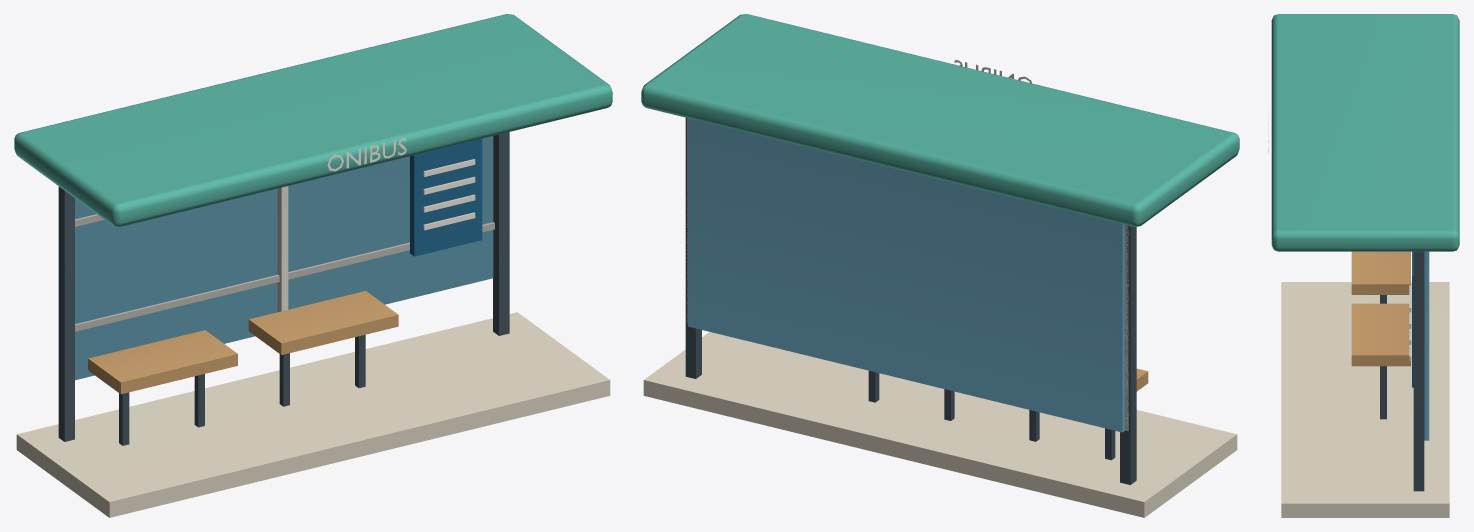
File: bus-shelter.glb
3 renders of one model, left to right at view 1: azimuth 30°, elevation 25°; view 2: azimuth 150°, elevation 25°; view 3: azimuth 270°, elevation 25°, orthographic. The views are drawn at different scales.
Parts seen in each view (by area): view 1: teal shelter roof, shelter foundation, rear glazing, shelter seat, shelter upright, glazing mullion, timetable panel; view 2: rear glazing, teal shelter roof, shelter foundation, shelter upright, glazing mullion; view 3: teal shelter roof, shelter foundation, shelter seat, shelter upright, rear glazing, glazing mullion, timetable panel.
Part boxes in pixels (bbox=[...]): teal shelter roof: bbox=[14, 14, 612, 226]; shelter foundation: bbox=[16, 312, 610, 517]; rear glazing: bbox=[75, 136, 493, 380]; shelter seat: bbox=[88, 291, 398, 394]; shelter upright: bbox=[58, 132, 509, 445]; glazing mullion: bbox=[75, 138, 494, 331]; timetable panel: bbox=[410, 138, 482, 256]; rear glazing: bbox=[688, 118, 1125, 432]; teal shelter roof: bbox=[641, 14, 1239, 226]; shelter foundation: bbox=[643, 332, 1237, 517]; shelter upright: bbox=[685, 117, 1136, 484]; glazing mullion: bbox=[687, 60, 1128, 431]; teal shelter roof: bbox=[1271, 14, 1459, 251]; shelter foundation: bbox=[1281, 282, 1449, 517]; shelter seat: bbox=[1351, 251, 1410, 366]; shelter upright: bbox=[1380, 251, 1424, 491]; rear glazing: bbox=[1424, 251, 1429, 440]; glazing mullion: bbox=[1268, 107, 1411, 360]; timetable panel: bbox=[1412, 251, 1413, 387].
Bounding box in the file's own units: 2.65 × 1.59 × 0.966.
